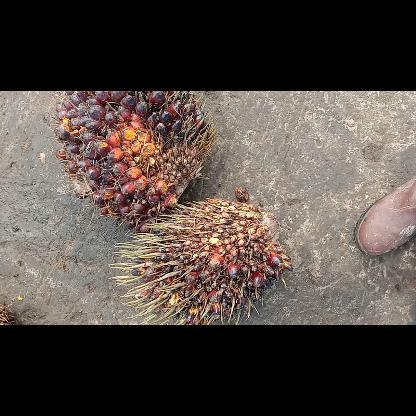Kurang masak: (48, 90, 216, 232)
TBS abnormal: (108, 198, 290, 324)
